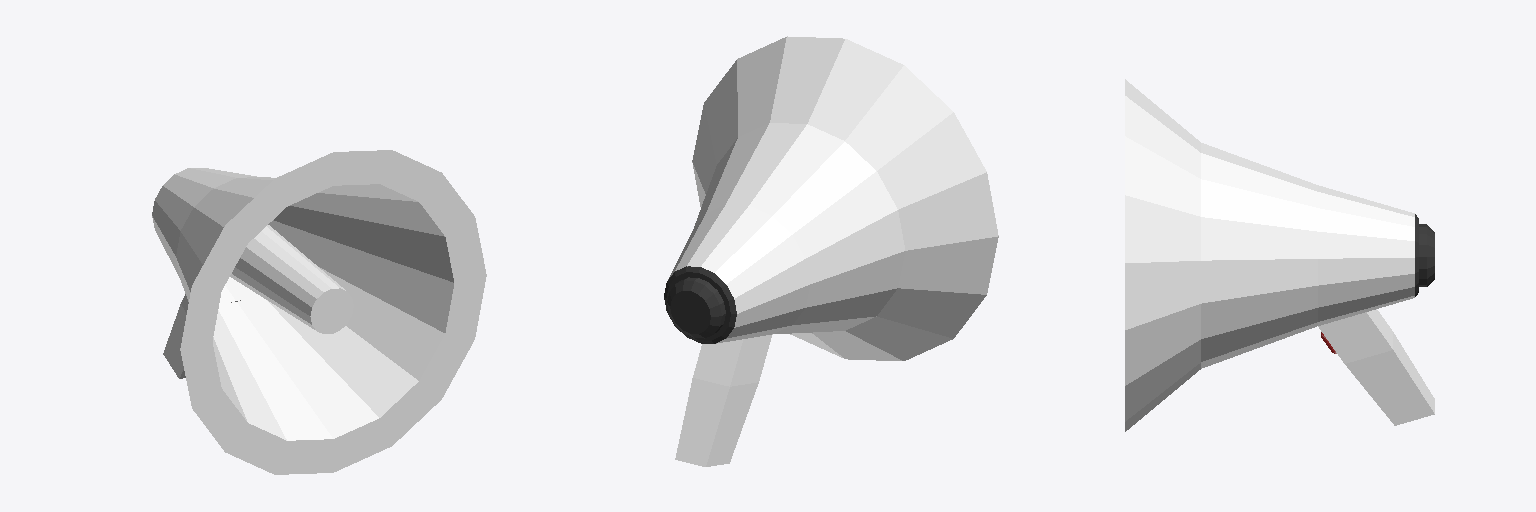
3 renders of one model, left to right at view 1: azimuth 30°, elevation 25°; view 2: azimuth 150°, elevation 25°; view 3: azimuth 270°, elevation 25°, orthographic.
Parts seen in each view (by area): view 1: Speaker; view 2: Speaker; view 3: Speaker.
Boxes of the visible parts, x1,y1,x2,y2 form: Speaker: [152, 150, 486, 474]; Speaker: [664, 36, 998, 466]; Speaker: [1125, 79, 1434, 431].
Bounding box in the file's own units: 0.7 × 0.7012 × 0.6132.
Materials: 1 (1 with a texture image).